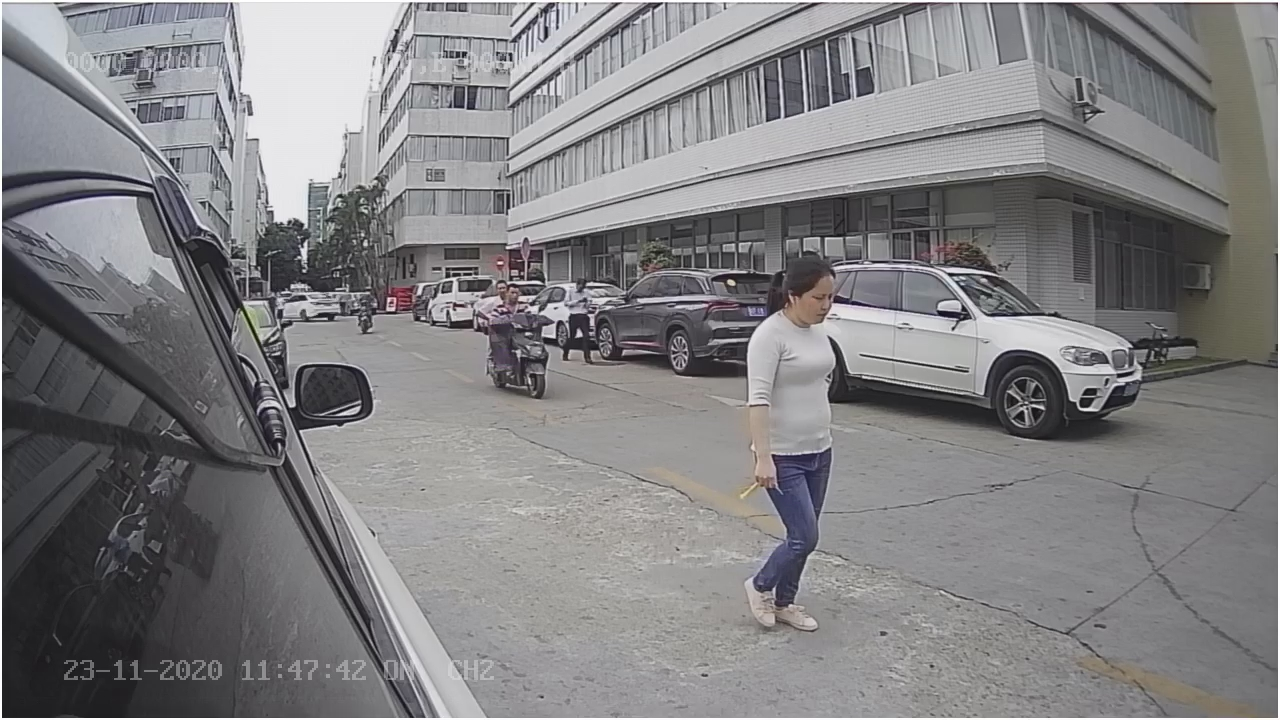person: (719, 246, 844, 636)
